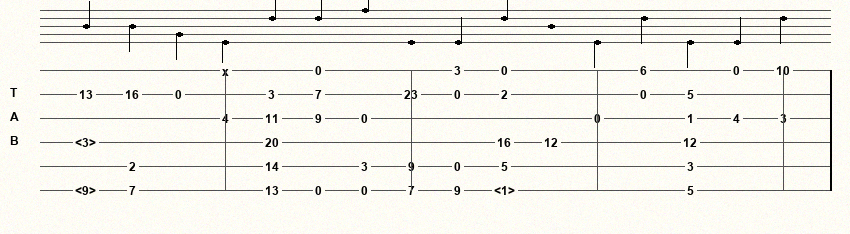0: (175, 88, 186, 101), (315, 184, 326, 197), (315, 64, 326, 77), (361, 184, 372, 197), (361, 112, 372, 125), (454, 88, 465, 101), (454, 160, 465, 173), (501, 64, 512, 77), (594, 112, 605, 125), (640, 88, 651, 101), (733, 64, 744, 77)
1: (687, 112, 698, 125)
10: (776, 64, 794, 77)
11: (265, 112, 283, 125)
12: (544, 136, 562, 149), (683, 136, 701, 149)
13: (79, 88, 97, 101), (265, 184, 283, 197)
14: (265, 160, 283, 173)
16: (125, 88, 143, 101), (497, 136, 515, 149)
2: (129, 160, 140, 173), (501, 88, 512, 101)
20: (265, 136, 283, 149)
23: (404, 88, 422, 101)
3: (268, 88, 279, 101), (361, 160, 372, 173), (454, 64, 465, 77), (687, 160, 698, 173), (780, 112, 791, 125)
4: (222, 112, 233, 125), (733, 112, 744, 125)
5: (501, 160, 512, 173), (687, 88, 698, 101), (687, 184, 698, 197)
6: (640, 64, 651, 77)
7: (129, 184, 140, 197), (315, 88, 326, 101), (408, 184, 419, 197)
9: (315, 112, 326, 125), (408, 160, 419, 173), (454, 184, 465, 197)
harmonic: (75, 136, 100, 149), (75, 184, 100, 197), (494, 184, 519, 197)
x: (222, 65, 233, 76)
